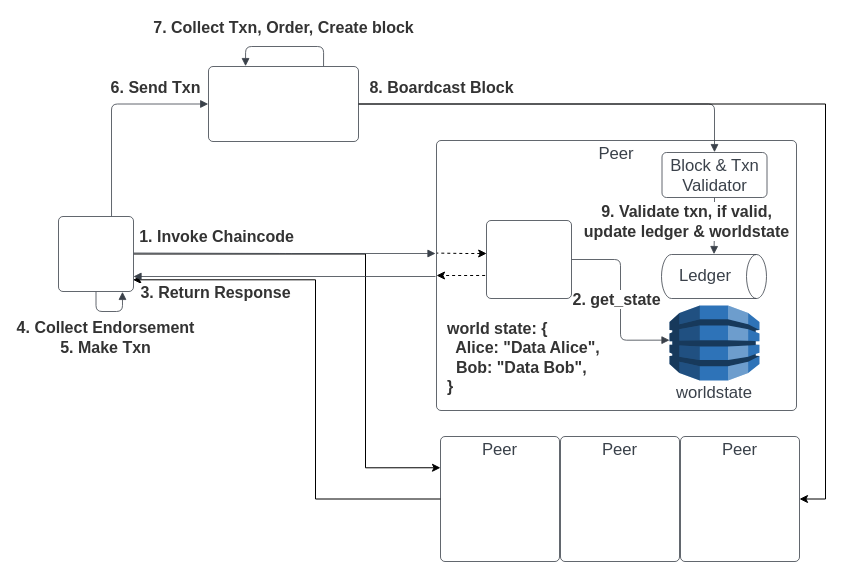
This 852x579 diagram has some shape labels left out. Each missing label, with the centre of its shape:
"chaincode" goes at [528,259].
"Client" goes at [95,253].
"Ordering Service" goes at [283,103].
